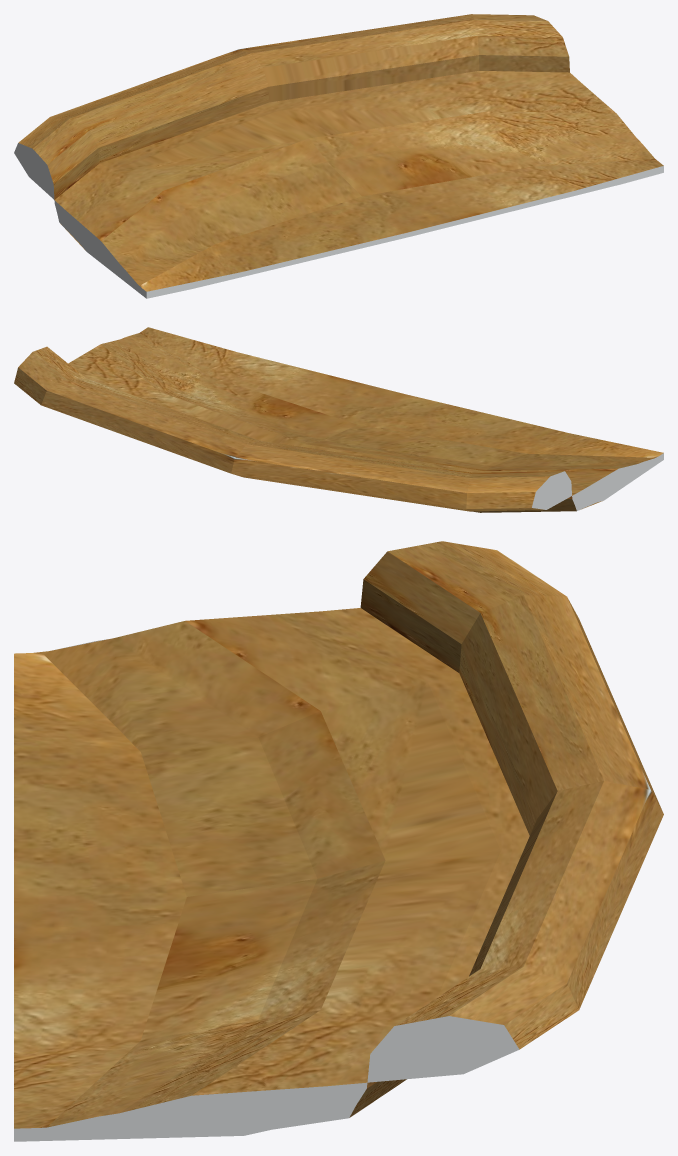
Rendered from rec2.gltf.
3 renders of one model, top to bottom at view 1: azimuth 30°, elevation 25°; view 2: azimuth 150°, elevation 25°; view 3: azimuth 270°, elevation 25°, orthographic. The views are drawn at different scales.
Parts seen in each view (by area): view 1: 평면; view 2: 평면; view 3: 평면.
Part boxes in pixels (<box>): 평면: <box>14,14,663,298</box>; 평면: <box>14,327,663,512</box>; 평면: <box>14,541,663,1141</box>.
Bounding box in the file's own units: 0.787 × 0.1004 × 0.4553.
1 material, 1 textured.
